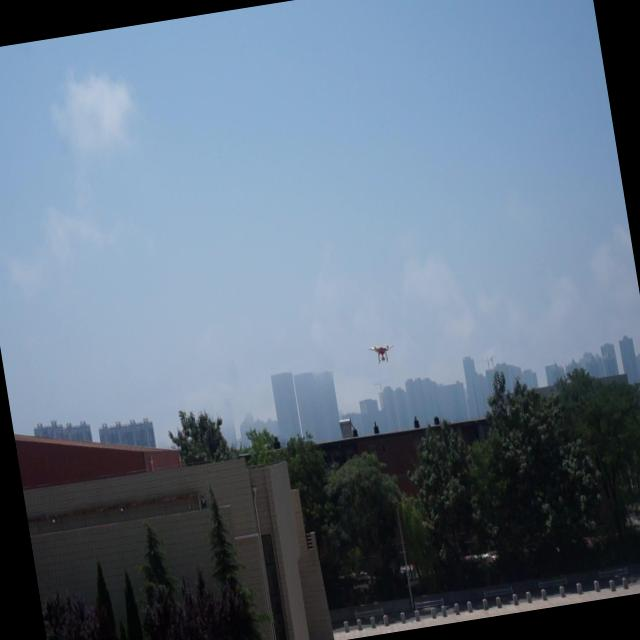drone: (367, 337, 398, 368)
